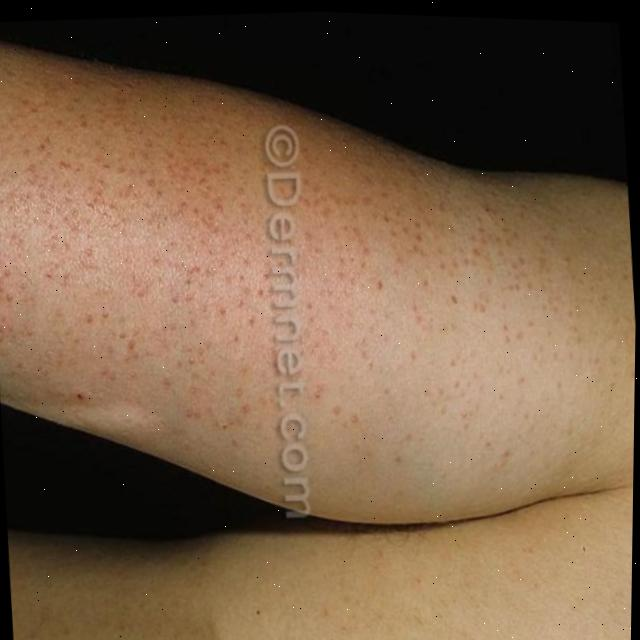Eczema: (13, 143, 554, 454)
